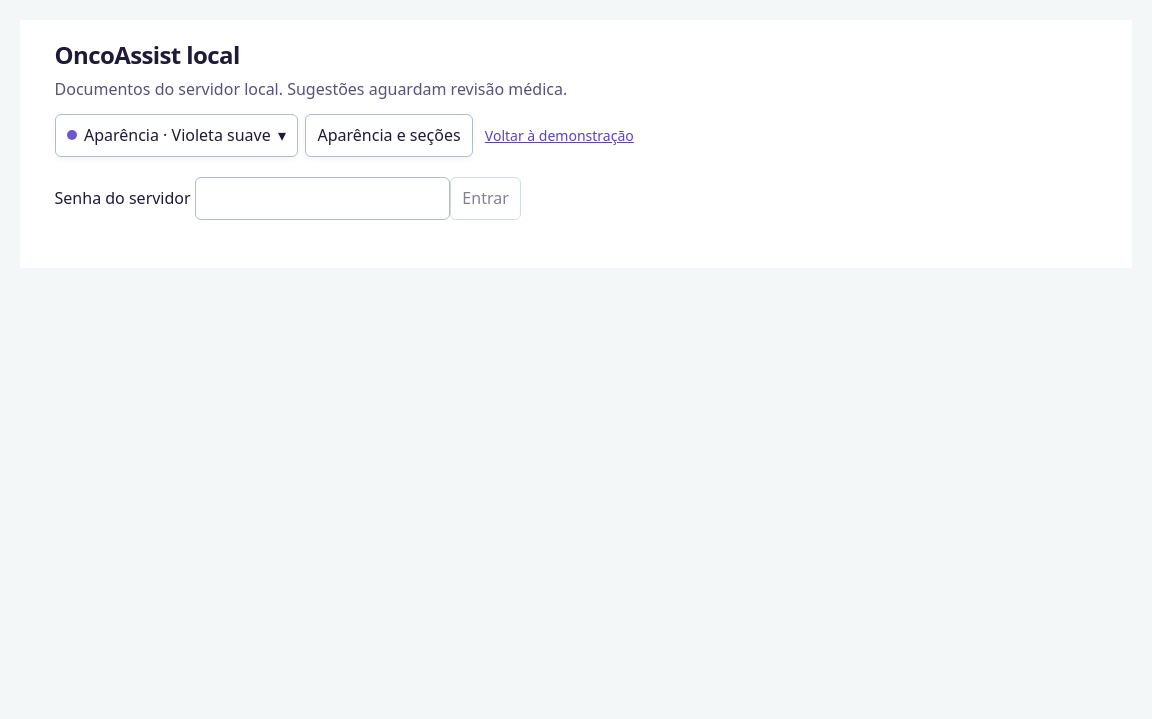
Test case: falha da recarga mantém visão invalidada em vez de reapresentar dados antigos
Type "senha-sintetica-para-teste" into the password field labelled "Senha do servidor" at (322, 198), box [195,177,450,220]
Click the button "Entrar" at (486, 198), box [450,177,521,220]
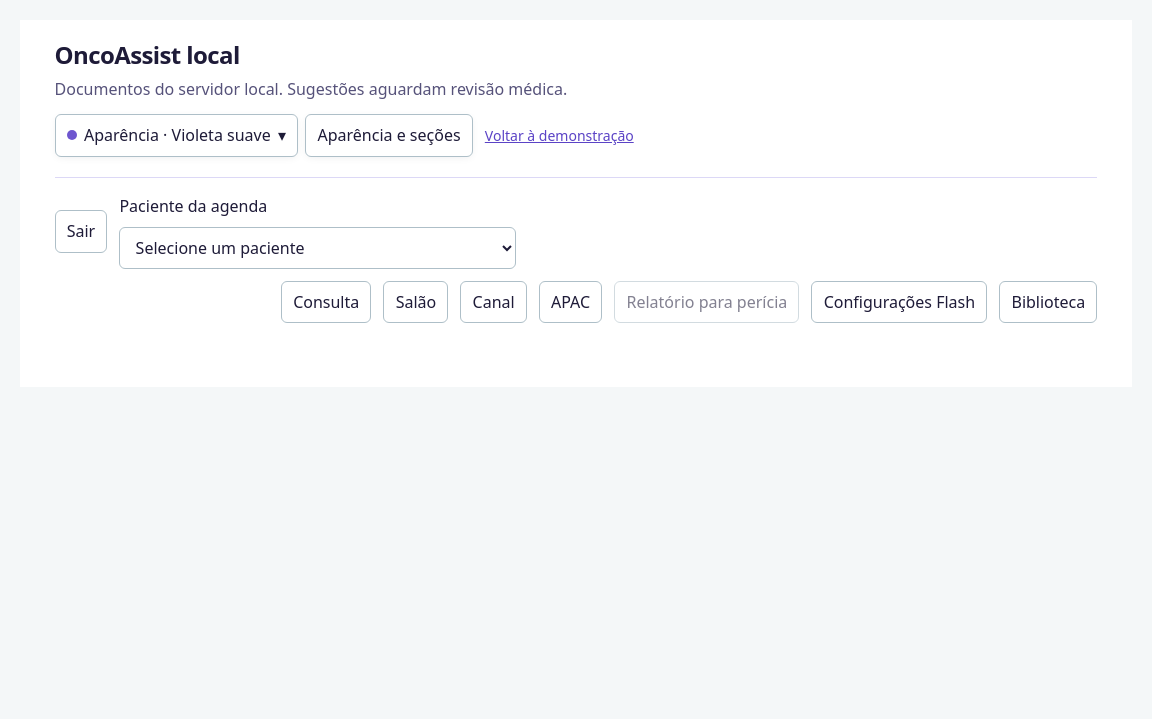
Select "11:00 — Paciente Teste 05" in the dropdown labelled "Paciente da agenda" at (318, 248), box [119,227,516,269]
(page scrolled)
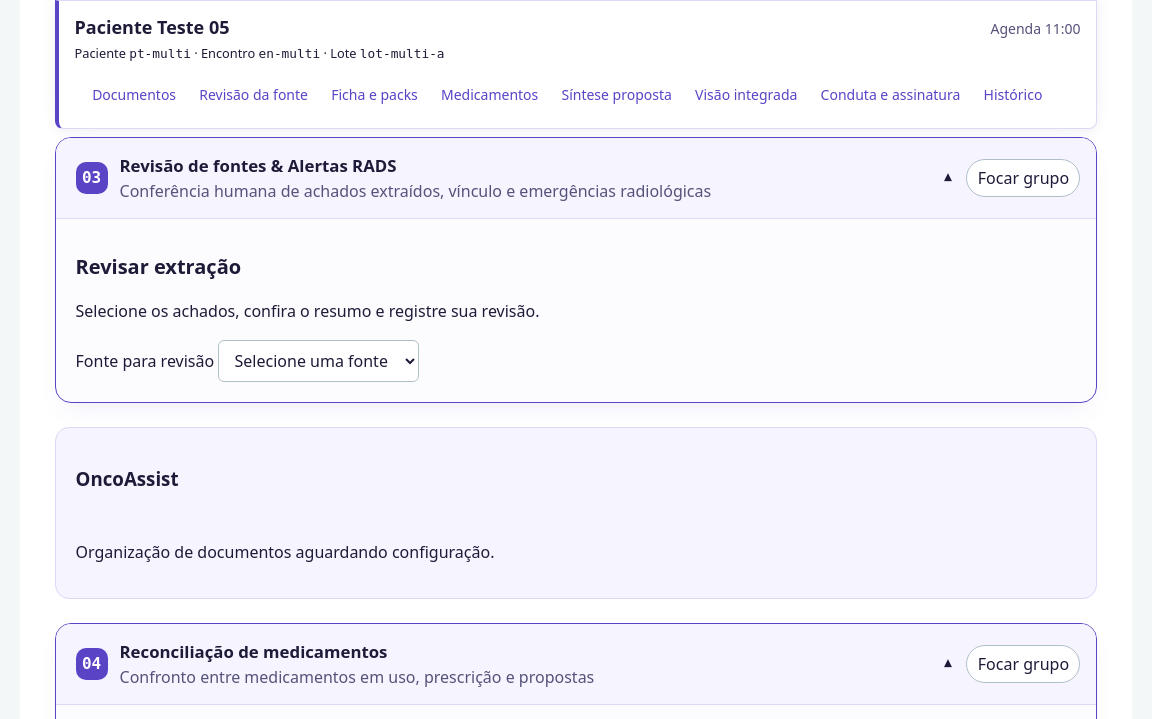
Select "Laboratório sintético" in the dropdown labelled "Fonte para revisão" at (319, 361), box [218,340,419,382]
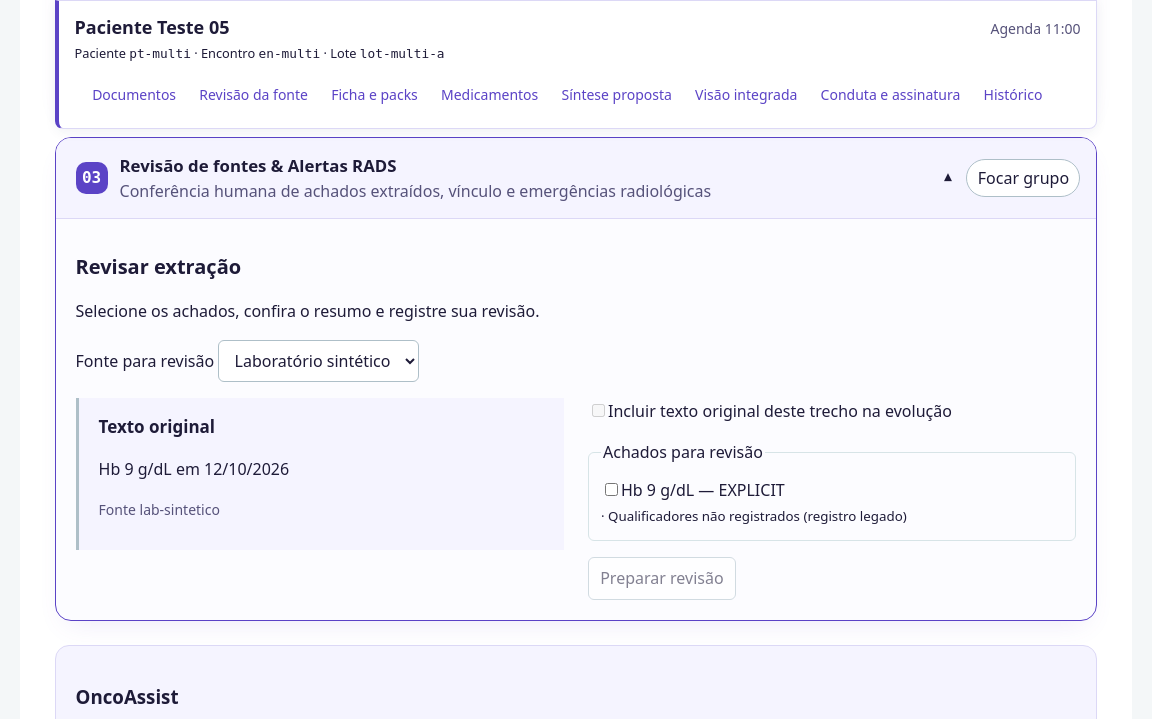
Click the checkbox labelled "Hb 9 g/dL — EXPLICIT" at (612, 490), box [605,483,618,496]
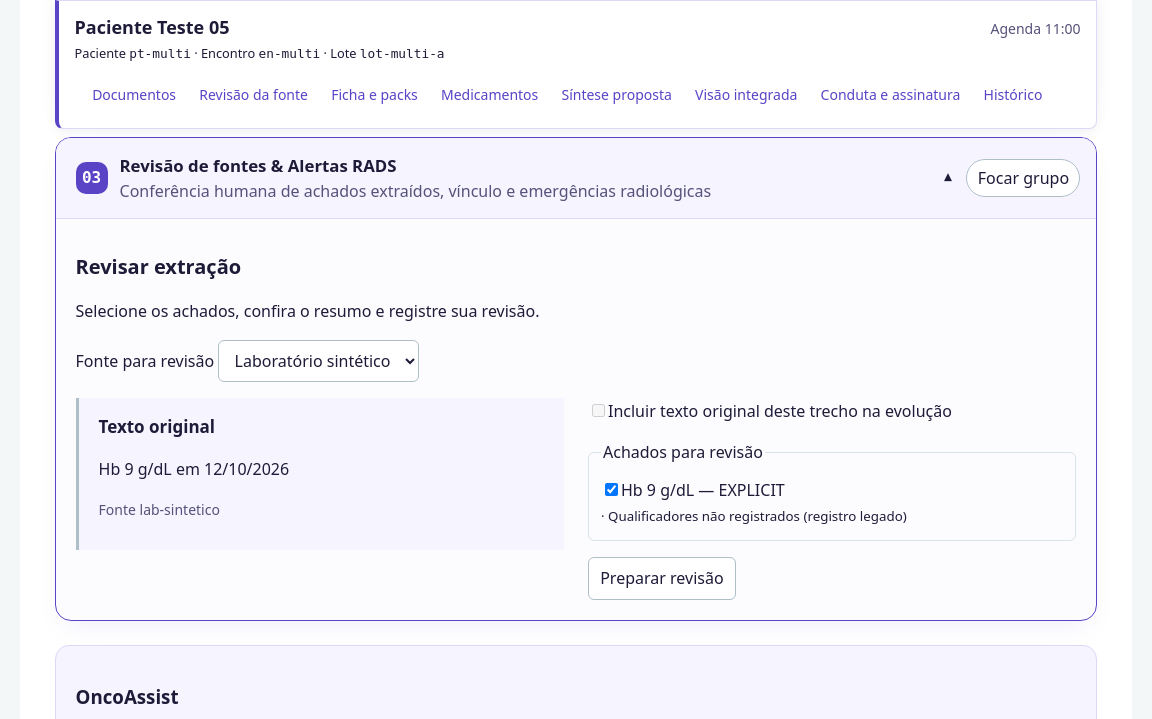
Click the button "Preparar revisão" at (662, 578), box [588,557,736,600]
(page scrolled)
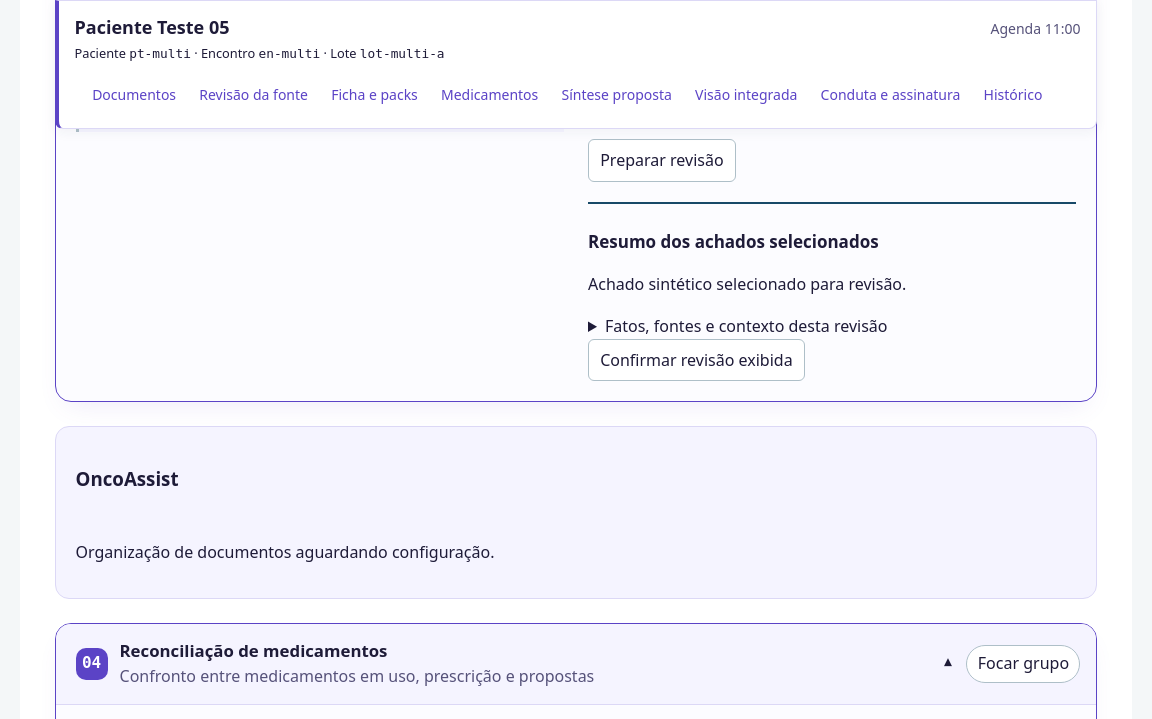
Click the button "Confirmar revisão exibida" at (696, 360), box [588,339,805,382]
(page scrolled)
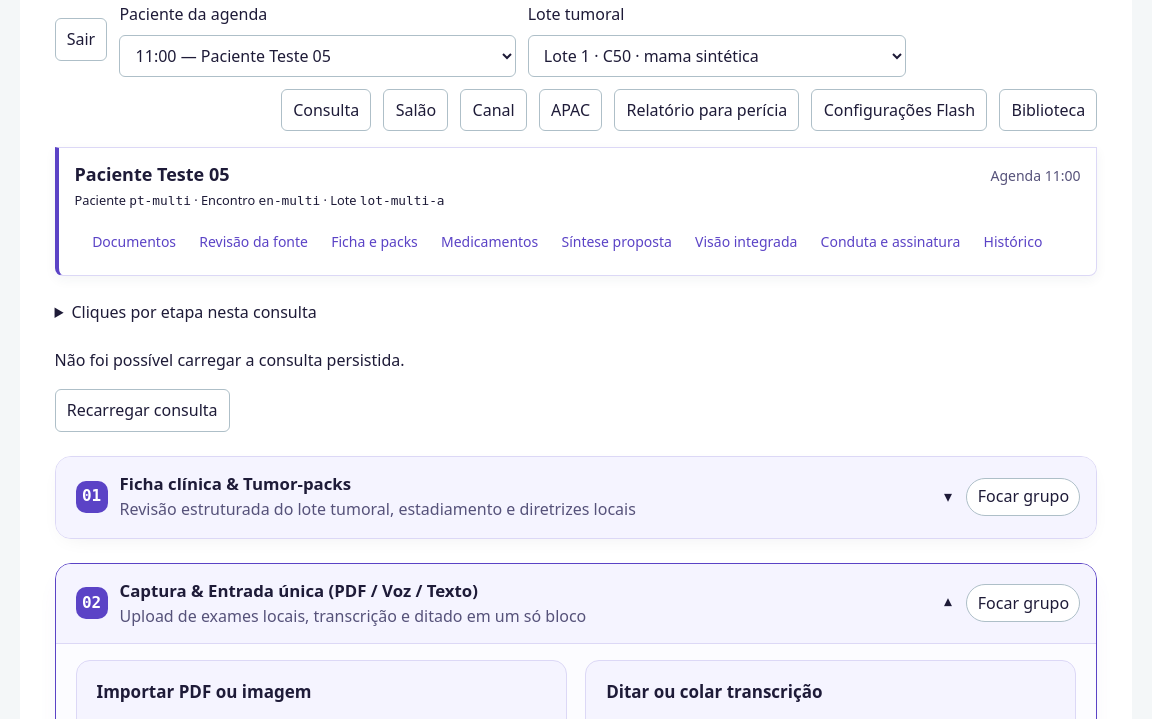
expect the text "Não foi possível carregar a consulta persistida." is shown: met, box [54,349,404,371]
